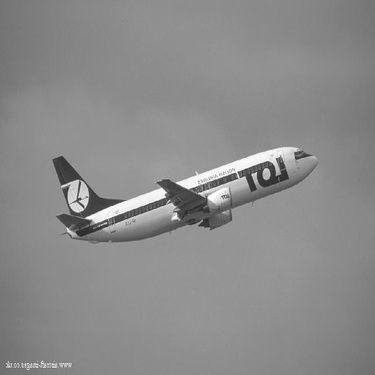airplane: (32, 135, 327, 245)
